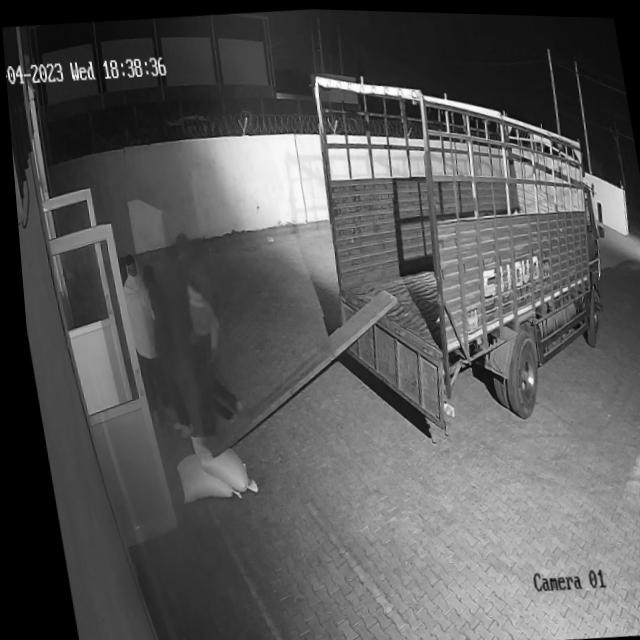sack: (181, 426, 250, 496), (164, 447, 233, 503)
